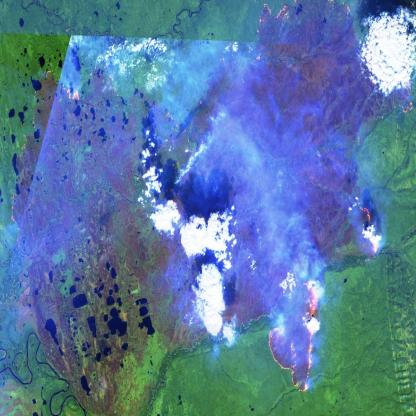fire: (41, 61, 392, 404)
